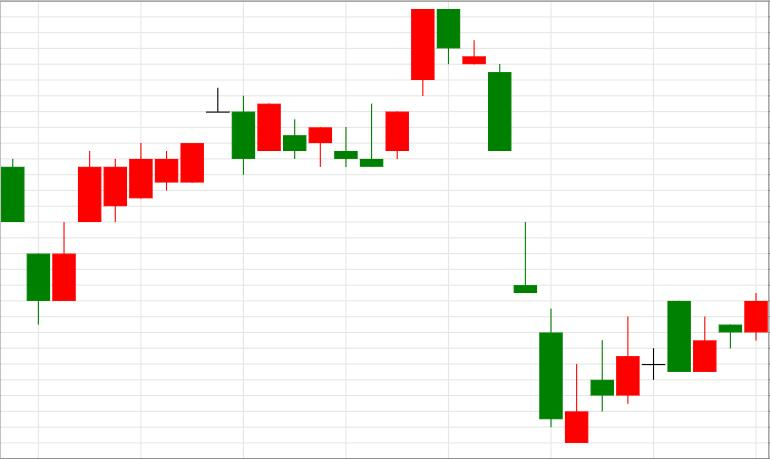inverse_hammer_rise: (437, 9, 588, 444)
